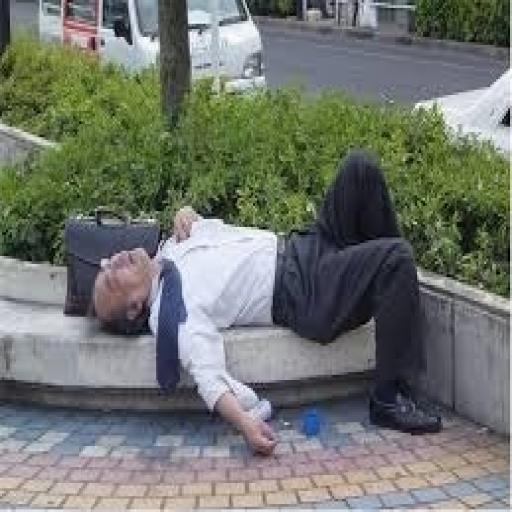sleeping: (89, 145, 445, 457)
